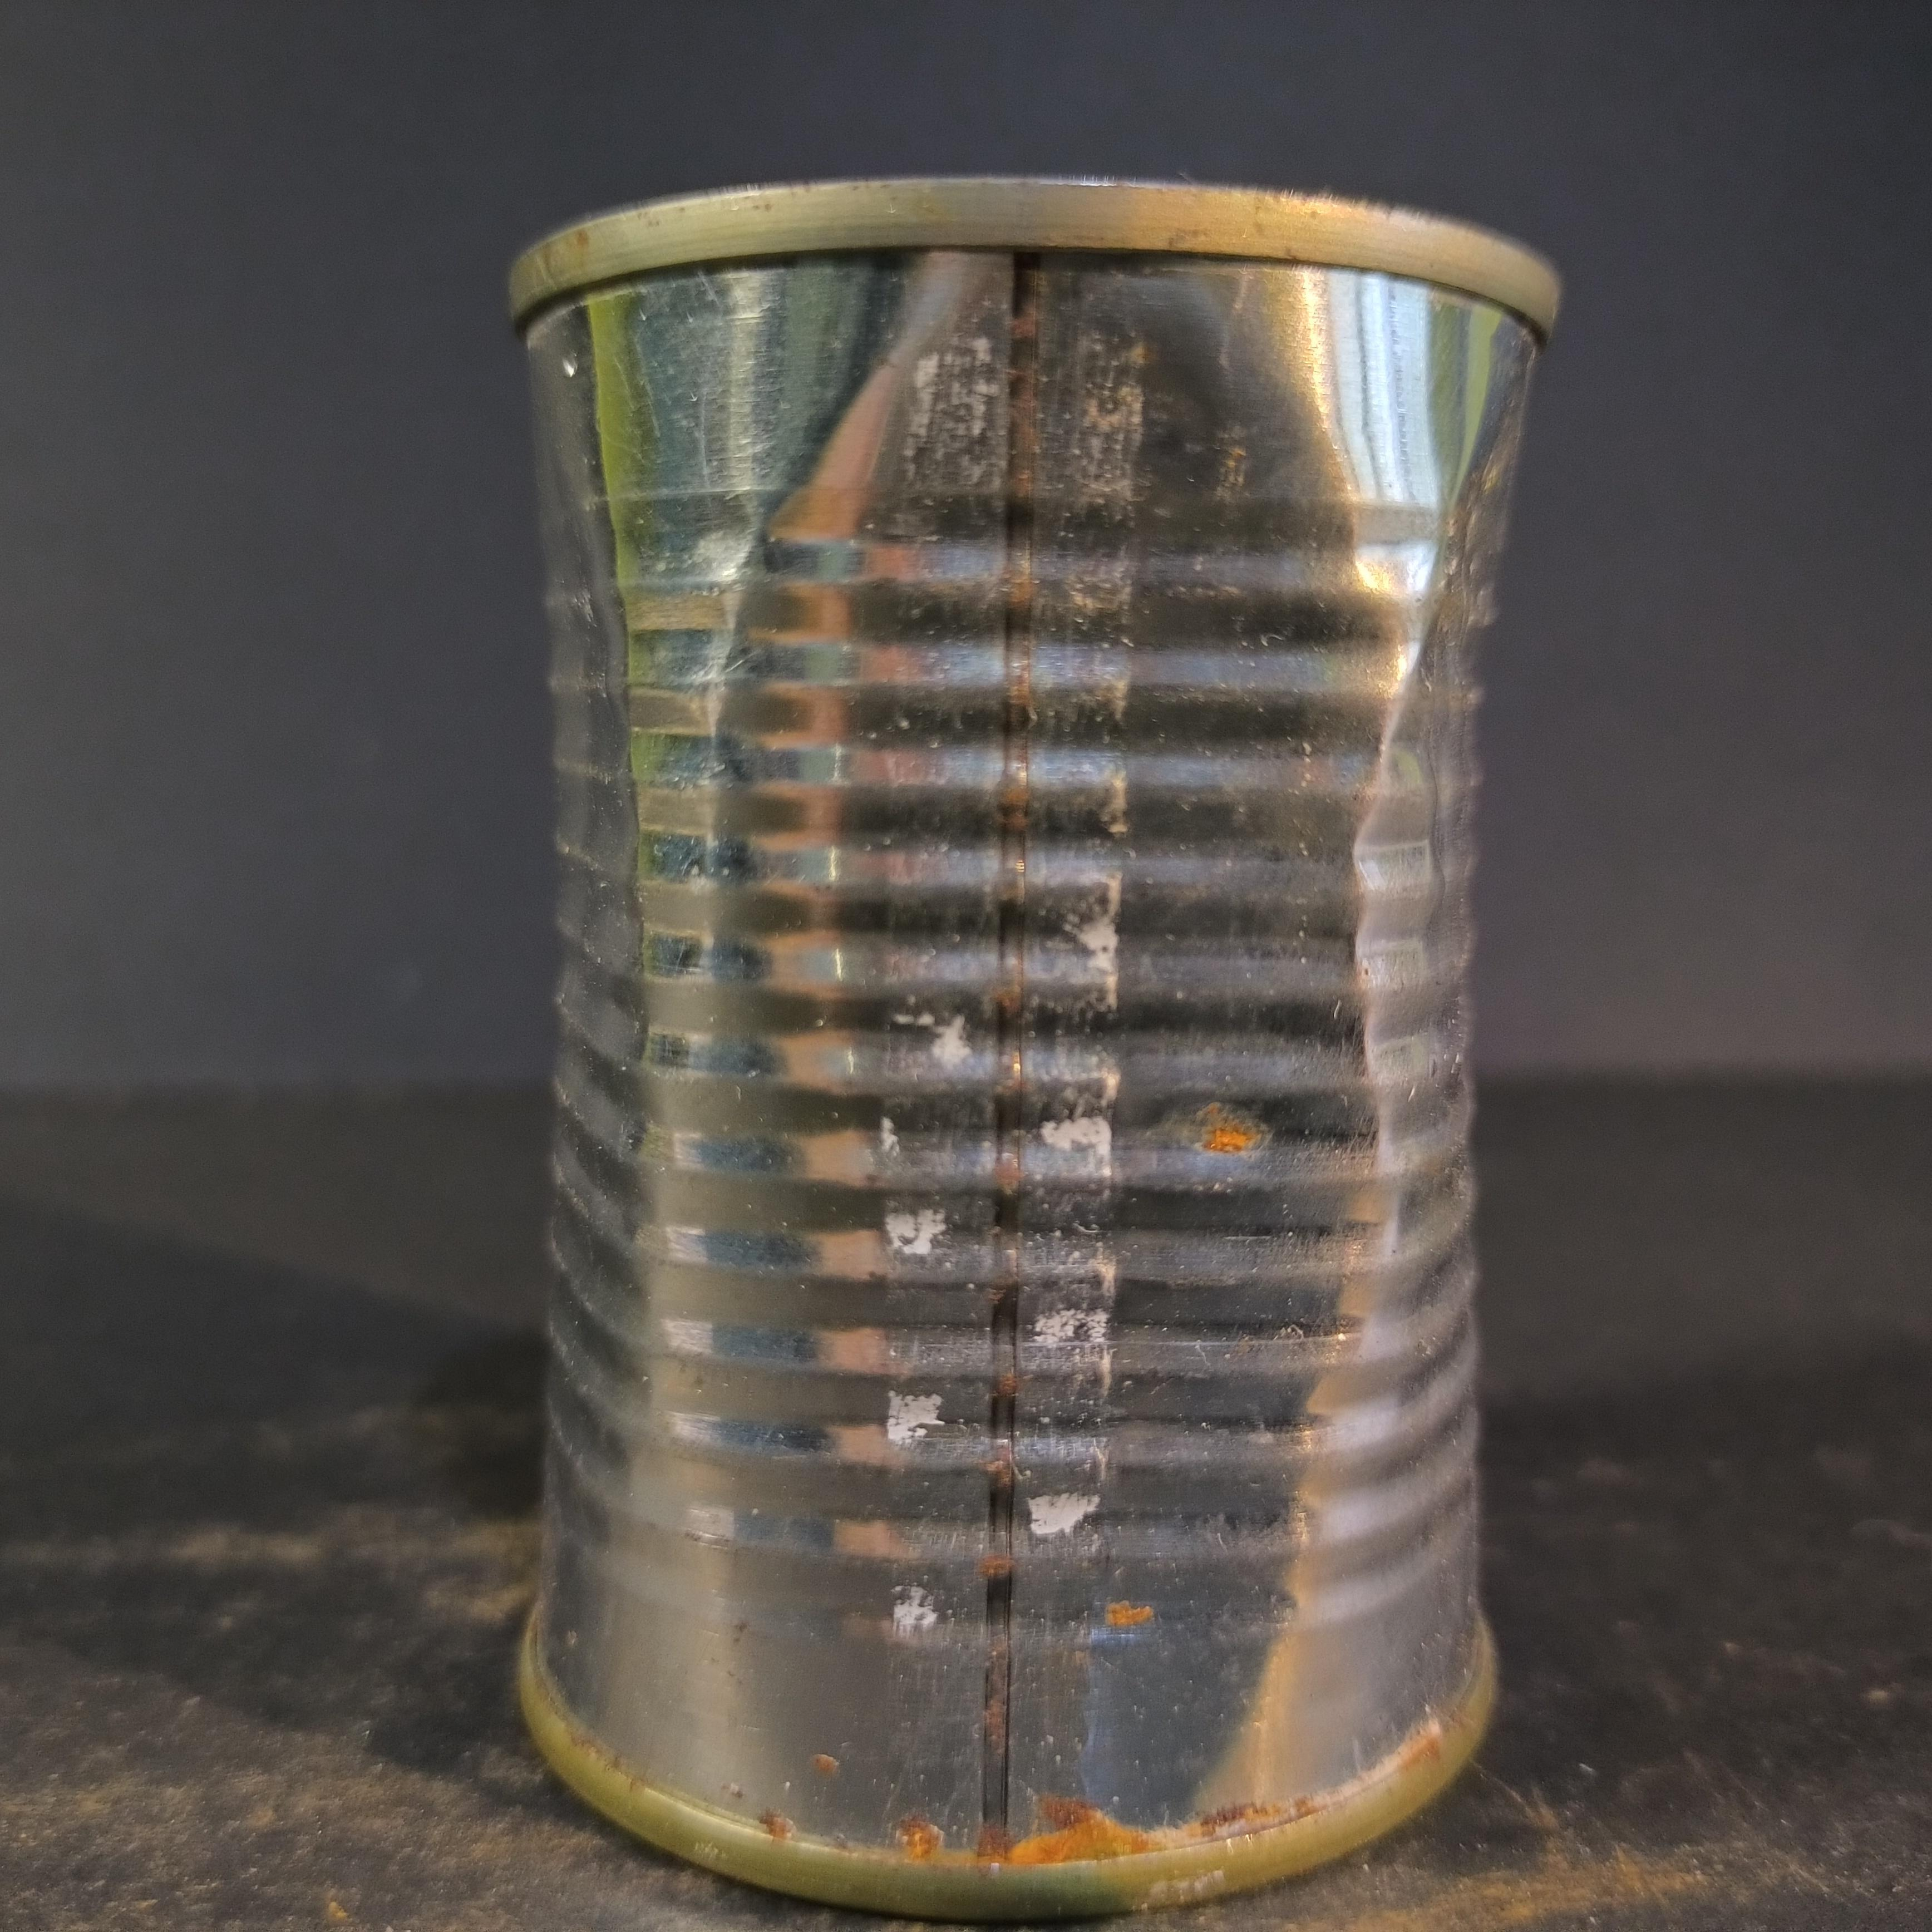Dented: (481, 136, 1573, 1932)
